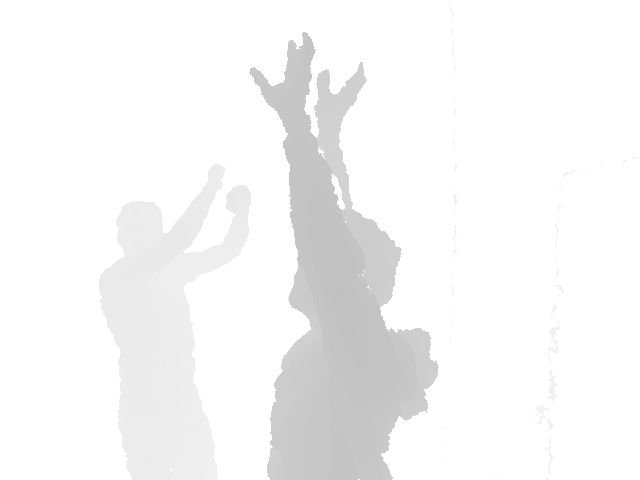hand: (249, 32, 317, 121), (313, 61, 367, 132), (225, 185, 251, 218), (207, 164, 226, 194)
head: (287, 209, 399, 326), (117, 199, 165, 259)
person: (249, 32, 440, 480), (97, 164, 251, 480)
